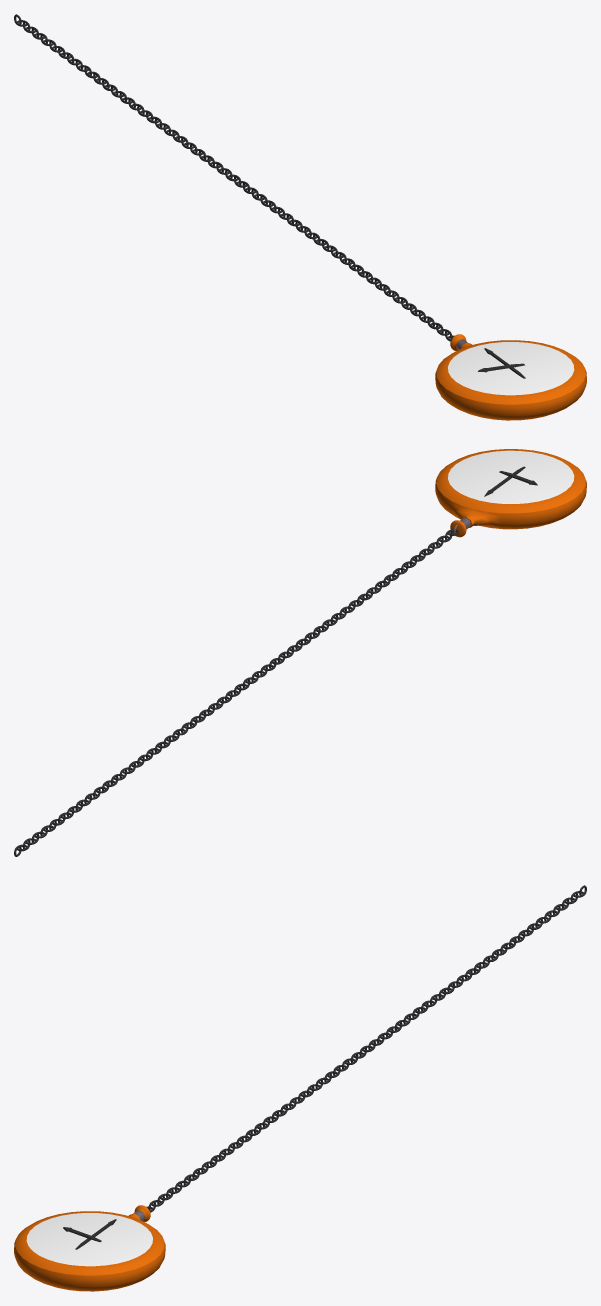
The model's file is V_Industrial05_Bolso.fbx.
The picture shows the model from 3 angles, top to bottom: view 1: azimuth 30°, elevation 25°; view 2: azimuth 150°, elevation 25°; view 3: azimuth 330°, elevation 25°; orthographic projection.
Visible parts, largest first — view 1: PktWatch; view 2: PktWatch; view 3: PktWatch.
Boxes of the visible parts, left/top/right/bottom form: PktWatch: left=14, top=14, right=586, bottom=420; PktWatch: left=14, top=449, right=586, bottom=856; PktWatch: left=14, top=885, right=586, bottom=1291.
Bounding box in the file's own units: 57.81 × 12.5 × 406.
